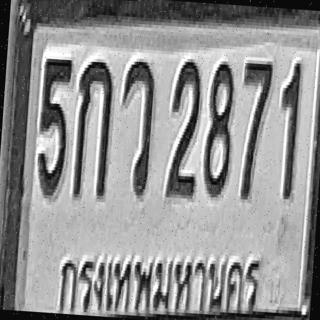A01: (72, 57, 114, 199)
A37: (116, 59, 157, 197)
N01: (275, 59, 302, 200)
N02: (165, 58, 203, 199)
N05: (34, 57, 72, 198)
N07: (236, 56, 274, 200)
N08: (201, 61, 236, 198)
P04: (53, 240, 264, 320)
